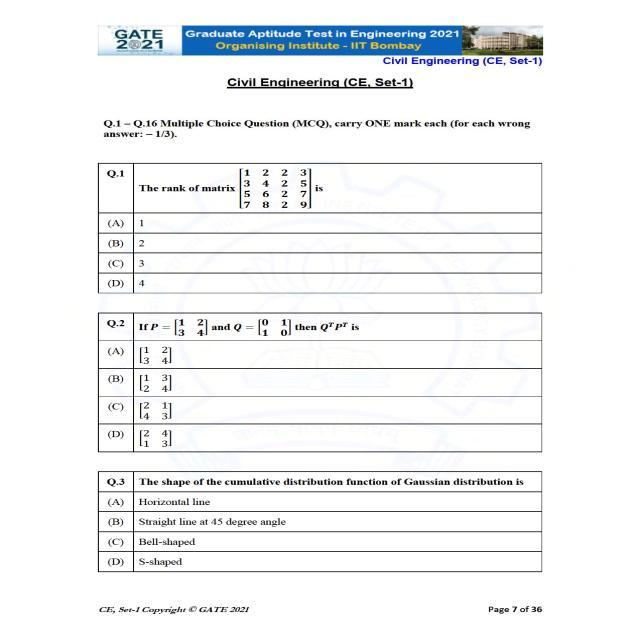Answer_Block: (98, 340, 542, 452), (97, 492, 539, 573), (95, 214, 538, 292)
Question_Answer_Block: (100, 314, 542, 452), (96, 164, 539, 294), (95, 474, 542, 572)
Question_Block: (96, 163, 540, 214), (98, 313, 544, 340), (96, 473, 540, 492)
Question_Paper_Area: (97, 117, 539, 572)
